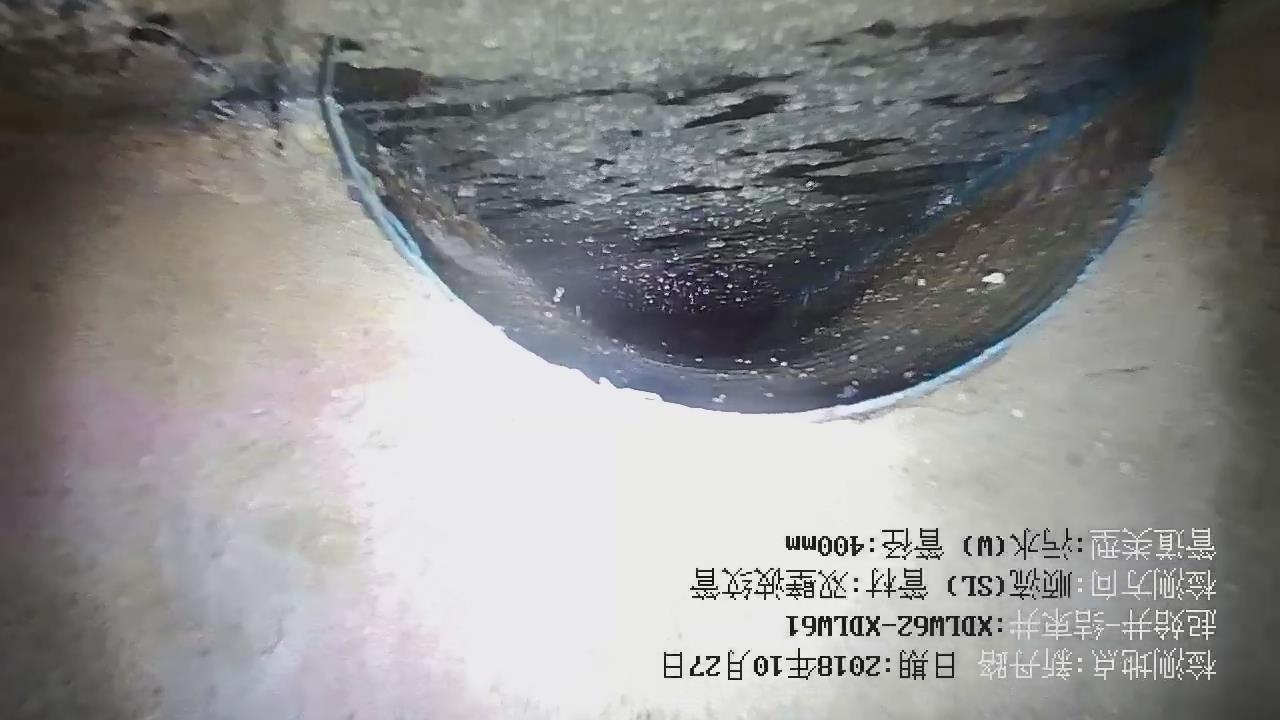FZ: (299, 1, 1164, 325)
